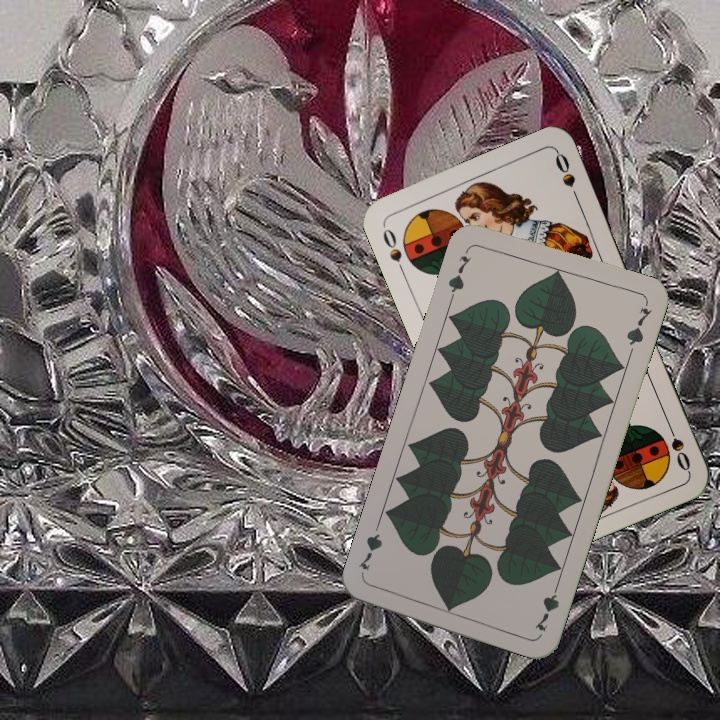G7: (530, 577, 563, 634), (444, 244, 473, 301)
SO: (662, 417, 693, 474), (378, 221, 408, 278)
